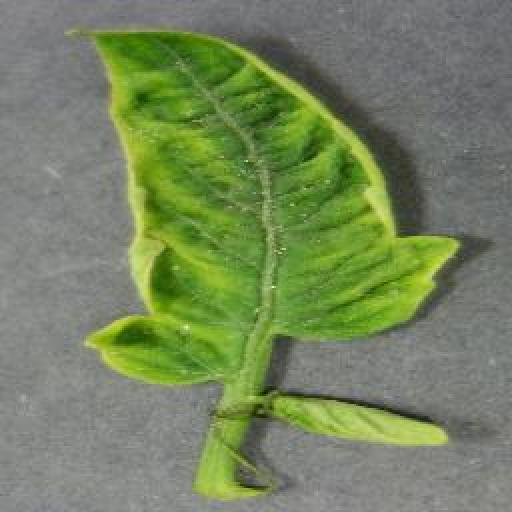disease_tomato: (75, 23, 462, 385), (275, 393, 447, 452)
